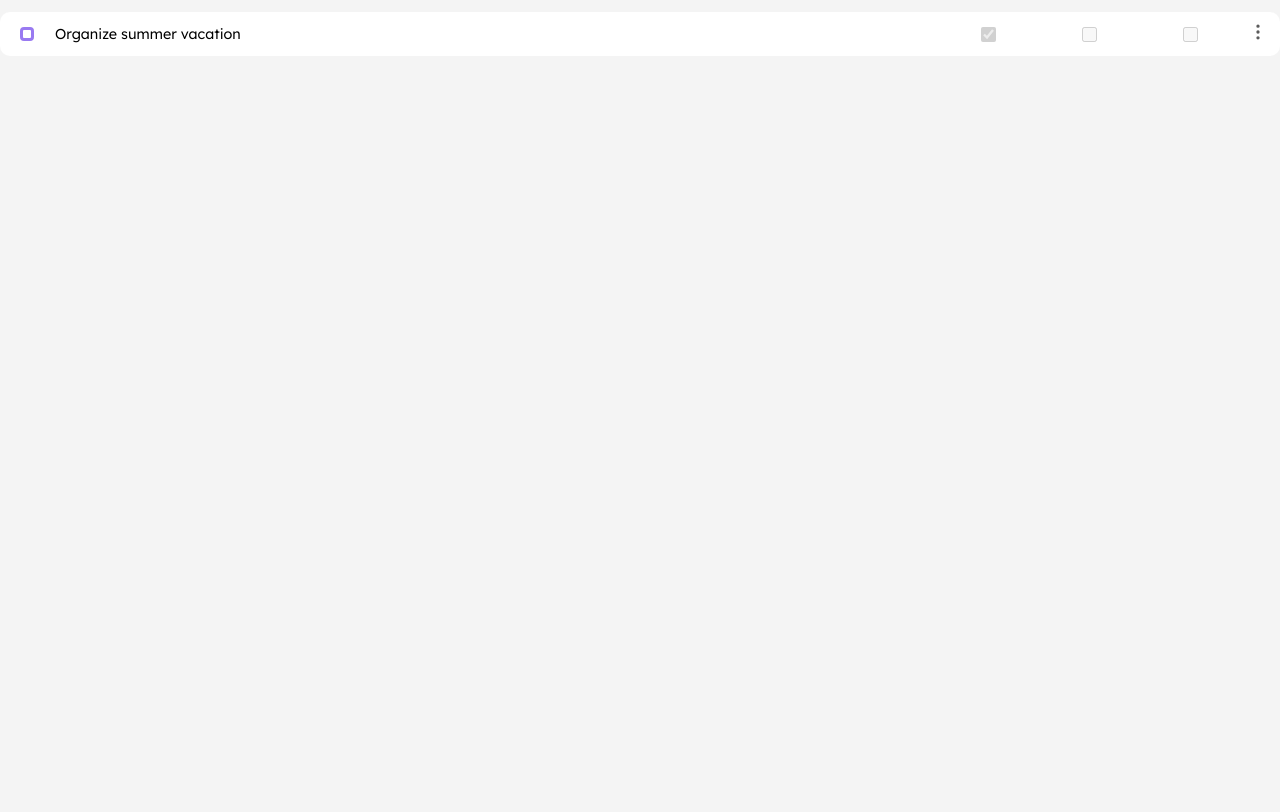
Scenario: GoalCard › should close dropdown menu when clicking outside that element
Click the picture named "menu_vertical": [1258, 32] box left=1246, top=12, right=1270, bottom=52
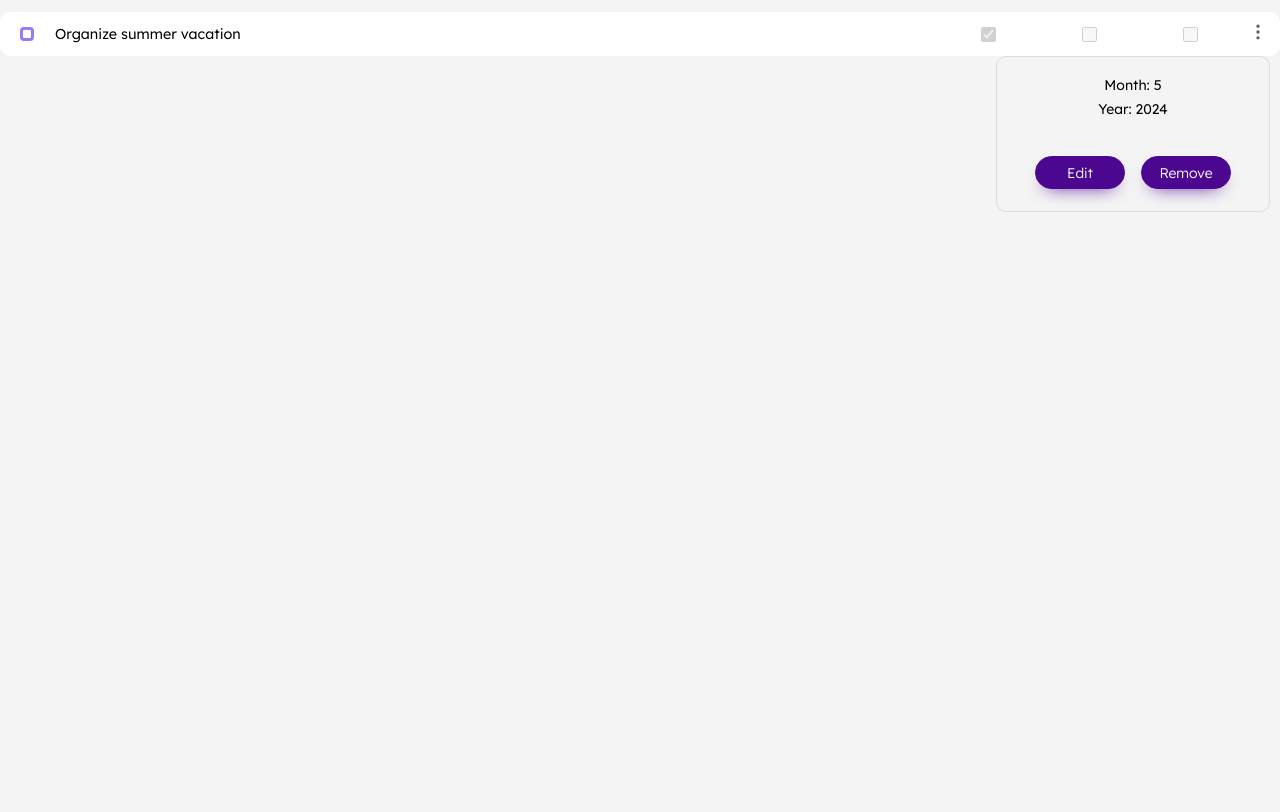
Click the element showing "Organize summer vacation Month: 5 Year: 2024 Edit Remove": [640, 412] box left=0, top=12, right=1279, bottom=811
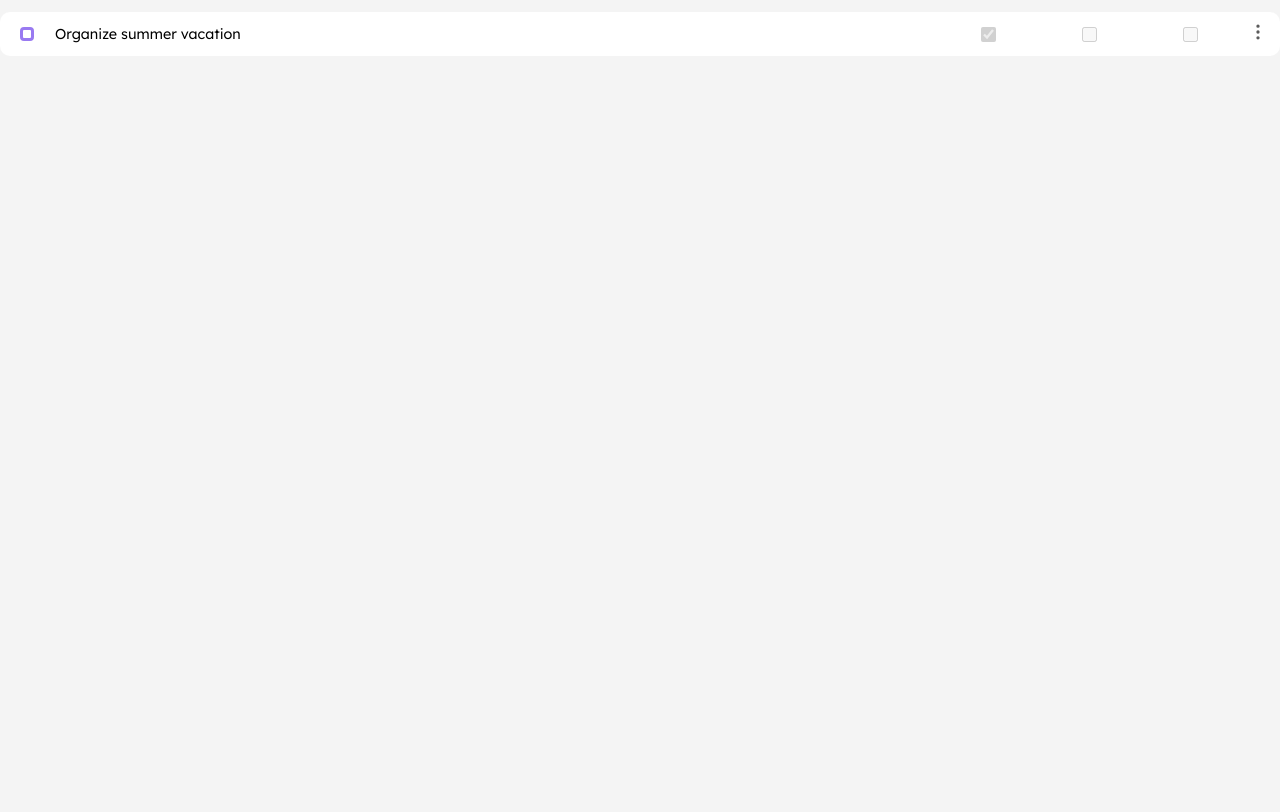
Now the element with test id "dropdown-content" is gone
